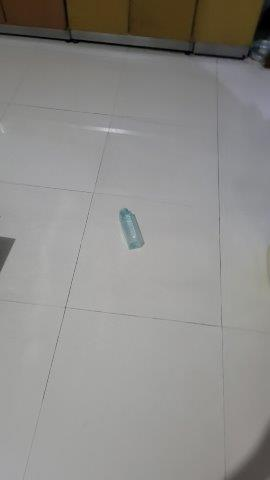botolplastik: (118, 207, 145, 252)
